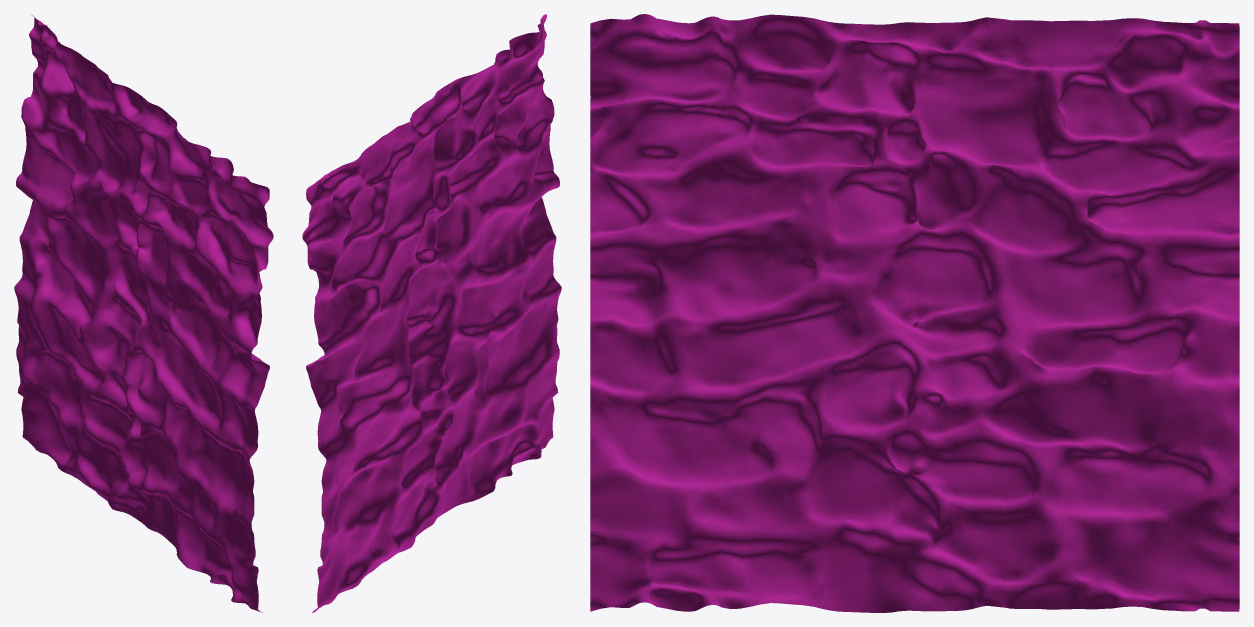
Rendered from Stone_wall_001_tile_Midpoly.obj.
3 renders of one model, left to right at view 1: azimuth 30°, elevation 25°; view 2: azimuth 150°, elevation 25°; view 3: azimuth 270°, elevation 25°, orthographic. The views are drawn at different scales.
Visible parts, largest first — view 1: Stone_wall_001_tile_Midpoly; view 2: Stone_wall_001_tile_Midpoly; view 3: Stone_wall_001_tile_Midpoly.
Part boxes in pixels (x1,y1,x2,y2): Stone_wall_001_tile_Midpoly: (14, 14, 273, 612); Stone_wall_001_tile_Midpoly: (302, 14, 561, 612); Stone_wall_001_tile_Midpoly: (590, 14, 1239, 612).
Size of the model in its own units: 3.76 by 47.29 by 47.27.
